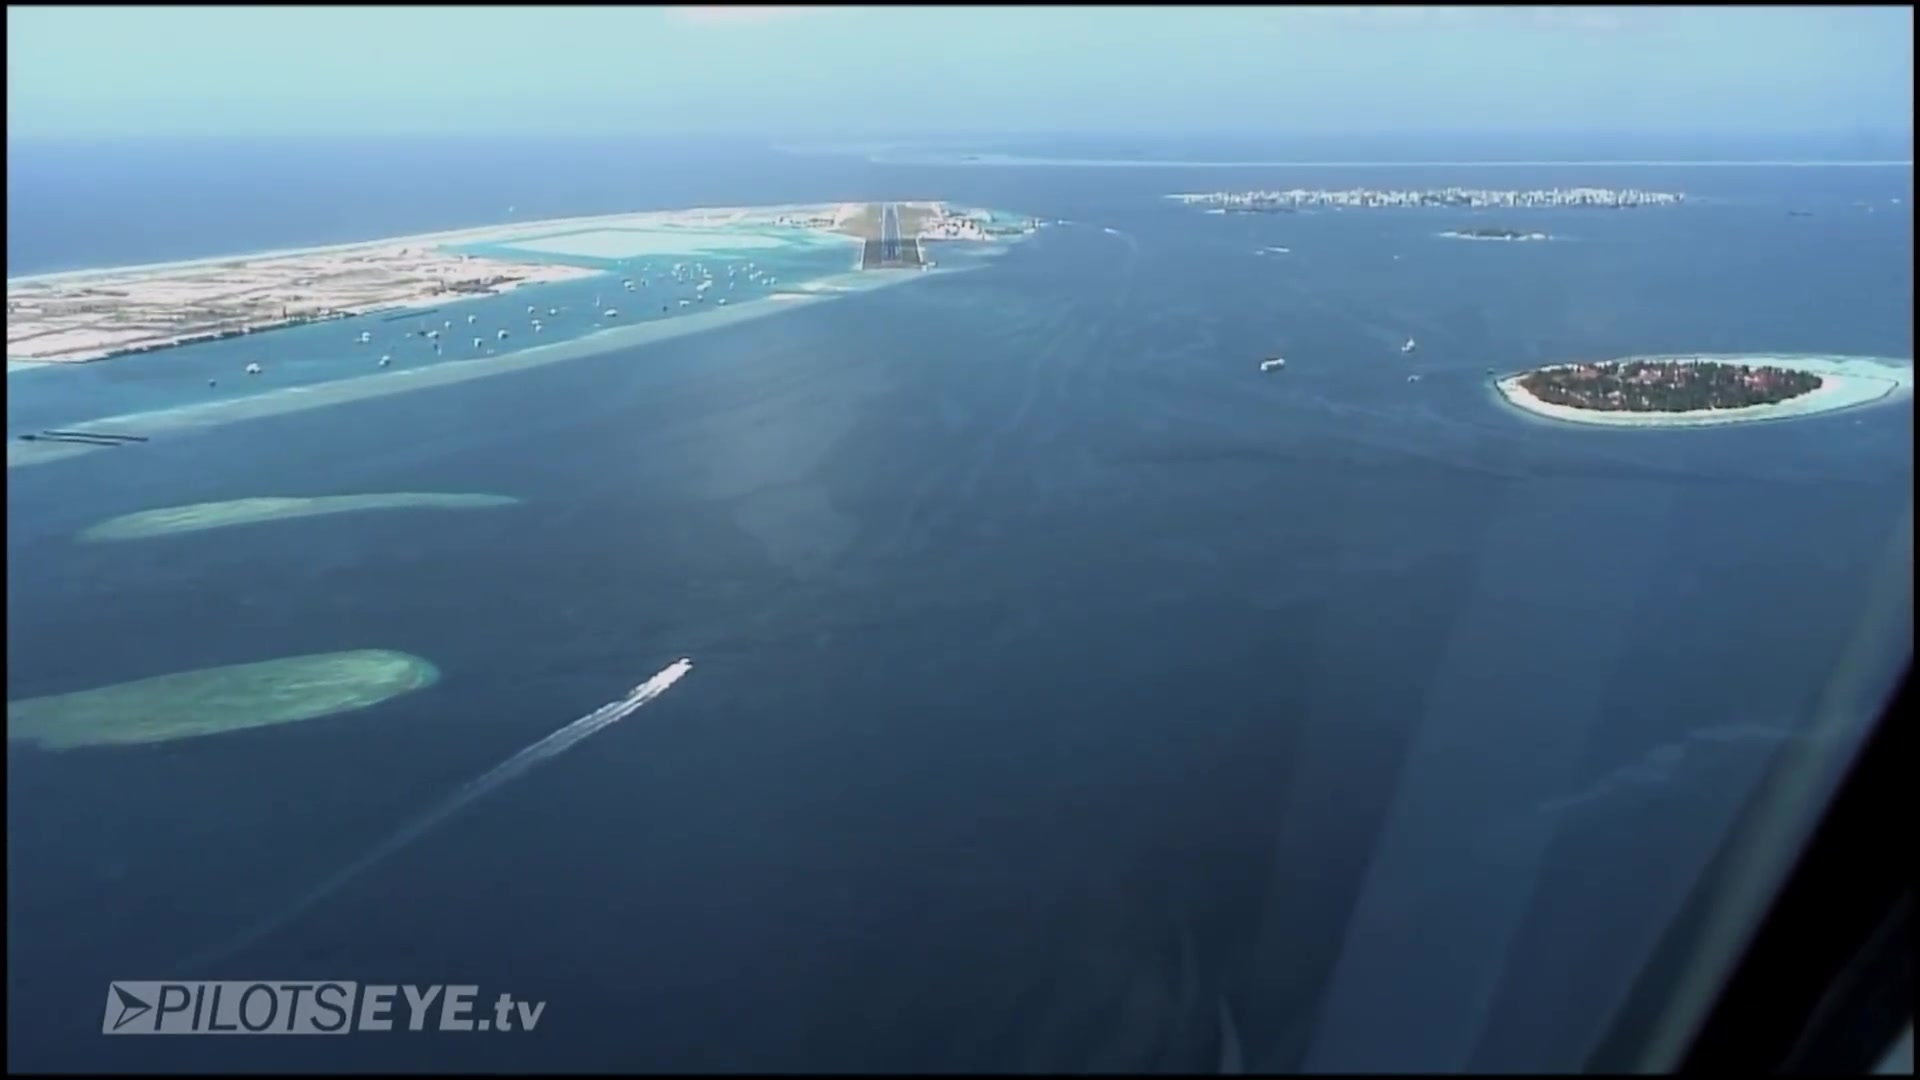runway: (880, 202, 903, 266)
